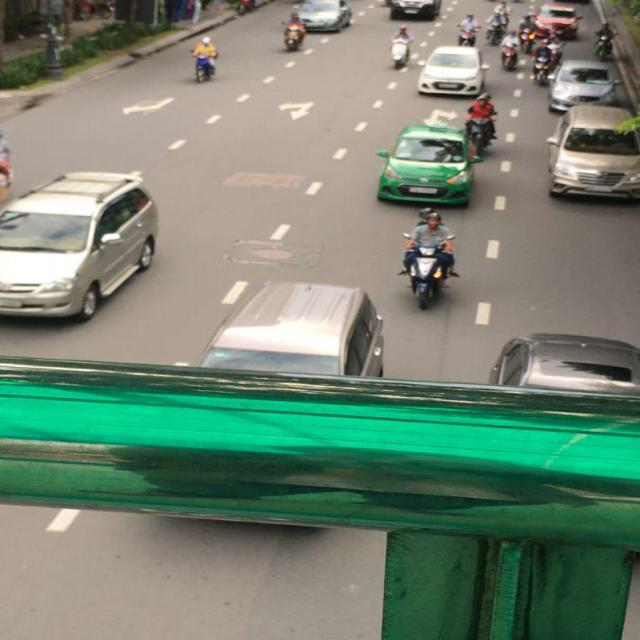car: (1, 171, 160, 323), (549, 102, 639, 206), (377, 122, 477, 208), (419, 47, 487, 96), (549, 60, 614, 110), (294, 0, 350, 34), (535, 3, 580, 39), (390, 1, 438, 20)
motorcycle: (406, 246, 453, 311), (466, 110, 498, 160), (532, 48, 564, 86), (192, 56, 217, 83), (284, 21, 306, 50), (502, 37, 521, 70)
